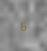six: (19, 20, 26, 30)
